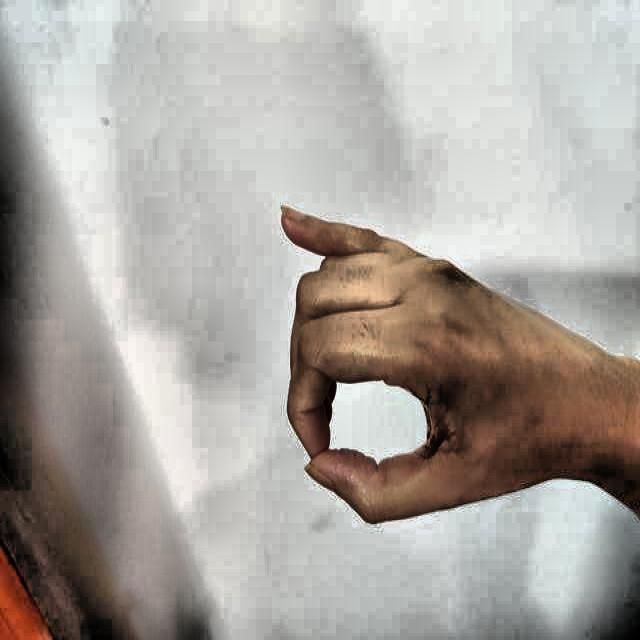Ou: (253, 170, 593, 540)
